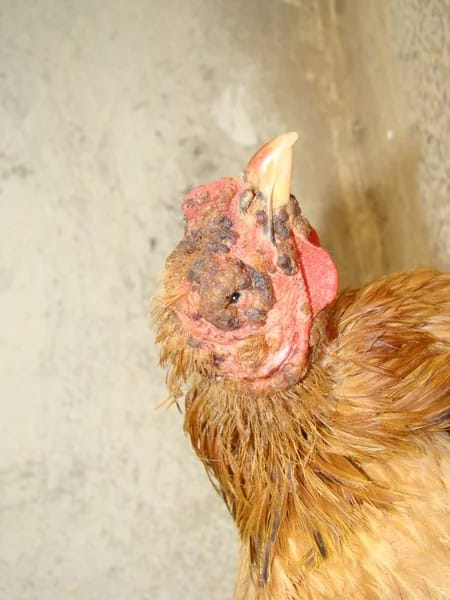Unhealthy: (151, 124, 437, 551)
